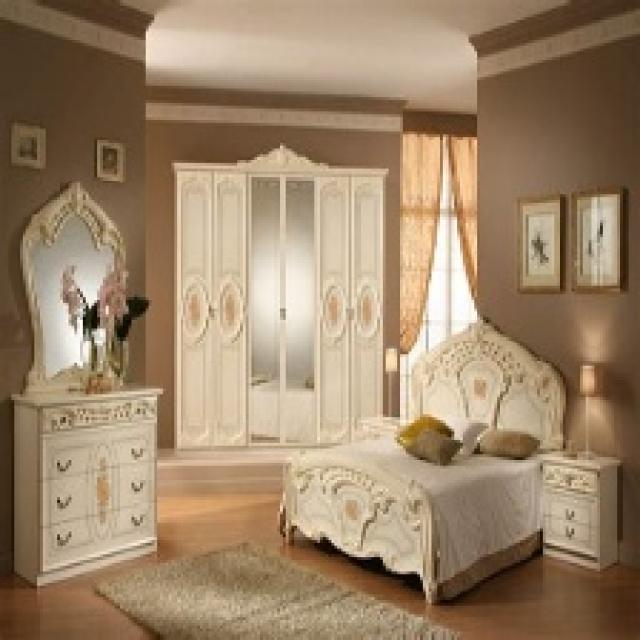Bed: (274, 314, 566, 603)
